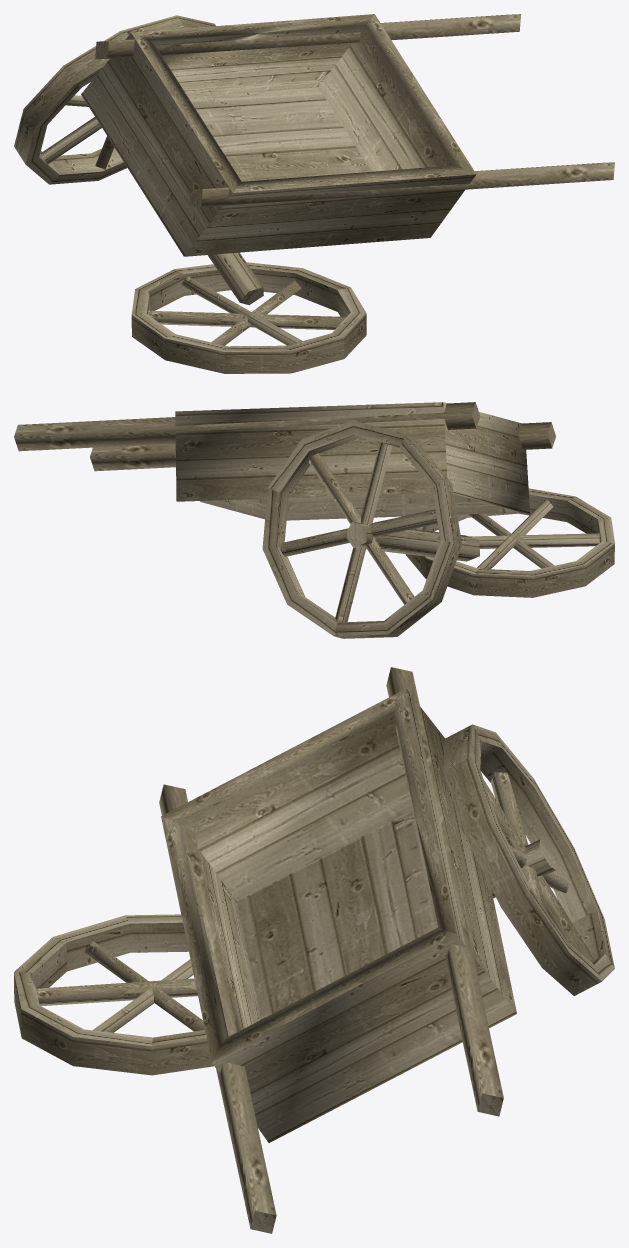
File: carro_roto.glb
3 renders of one model, top to bottom at view 1: azimuth 30°, elevation 25°; view 2: azimuth 150°, elevation 25°; view 3: azimuth 270°, elevation 25°, orthographic. The views are drawn at different scales.
Parts seen in each view (by area): view 1: Modelo; view 2: Modelo; view 3: Modelo.
Part boxes in pixels (x1,y1,x2,y2): Modelo: (14, 14, 614, 373); Modelo: (14, 402, 614, 638); Modelo: (14, 667, 614, 1233).
Bounding box in the file's own units: 1.74 × 0.792 × 1.38.
1 material, 1 textured.
